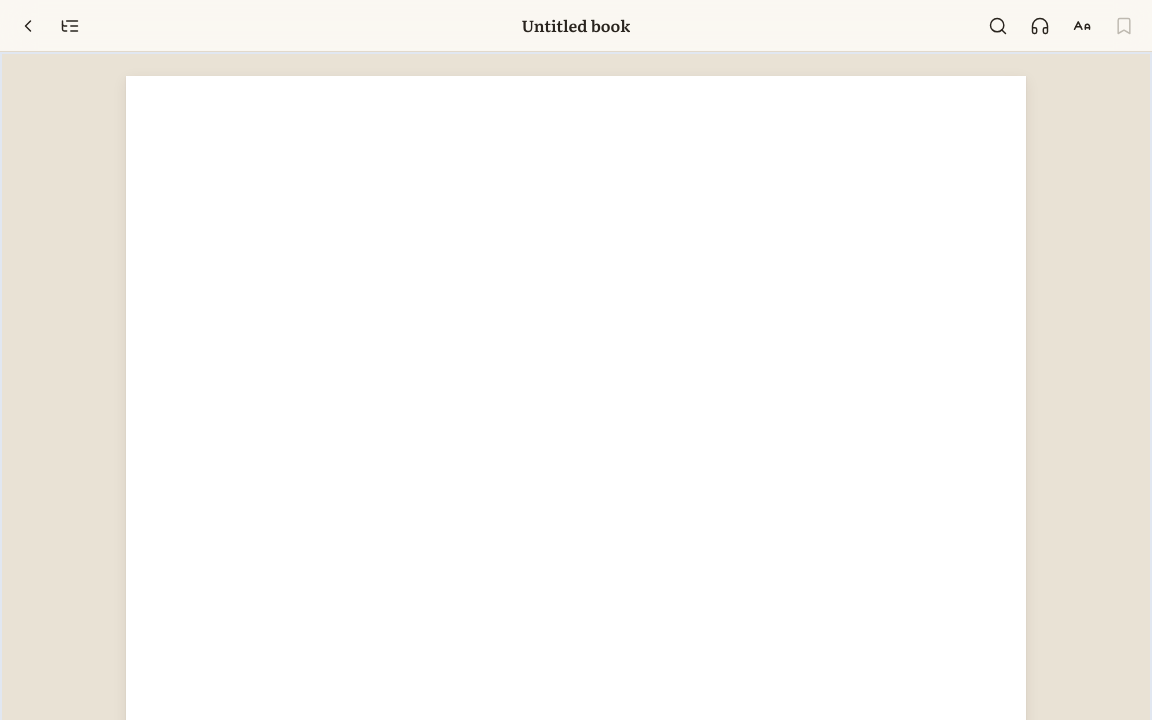
Scenario: ReaderView bookmarks › says so when the bookmarks cannot be read
Click the button named "Contents".
click(70, 26)  # box [50, 6, 90, 46]
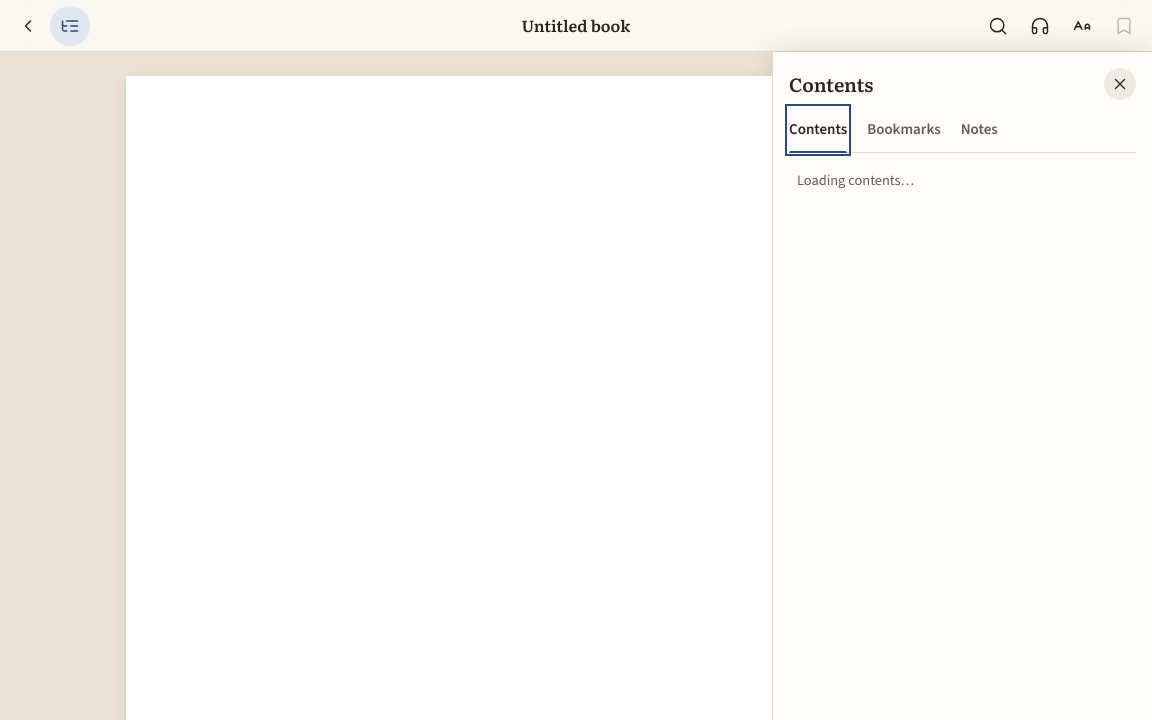
Click the tab "Bookmarks".
click(904, 130)  # box [867, 108, 941, 152]
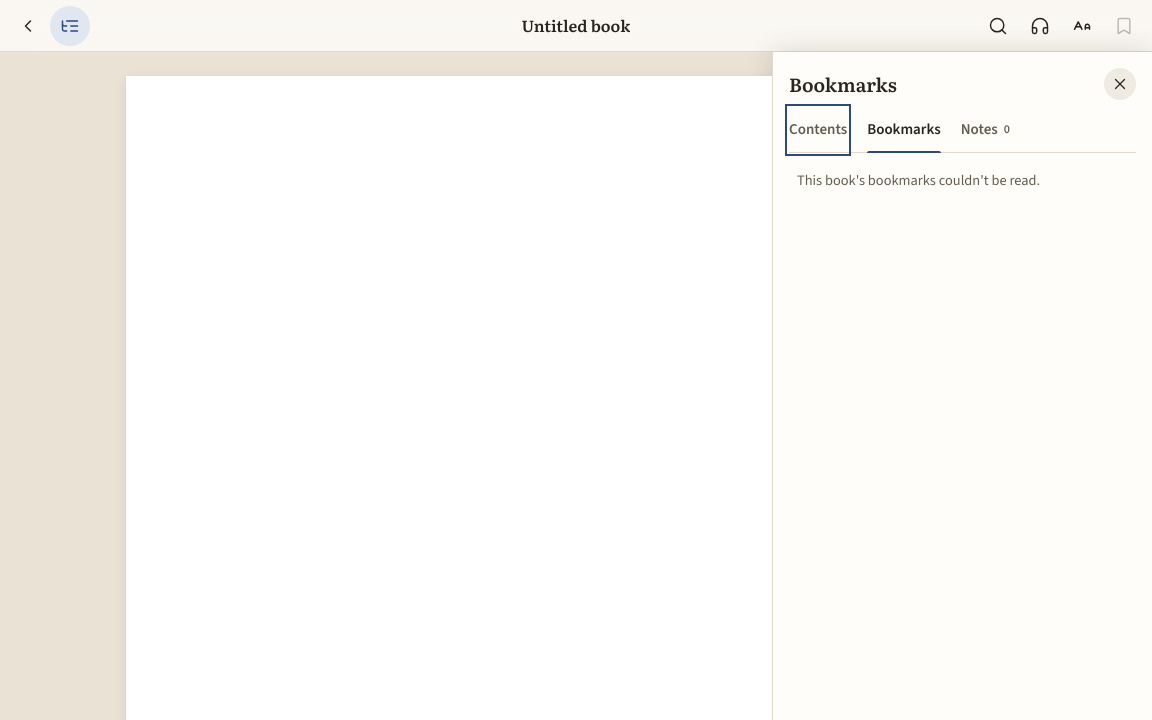
Expected: the button named "Bookmark this page" is disabled, [1104, 6, 1144, 46]
Expected: the text "This book's bookmarks couldn't be read." is shown, [797, 170, 1040, 191]
